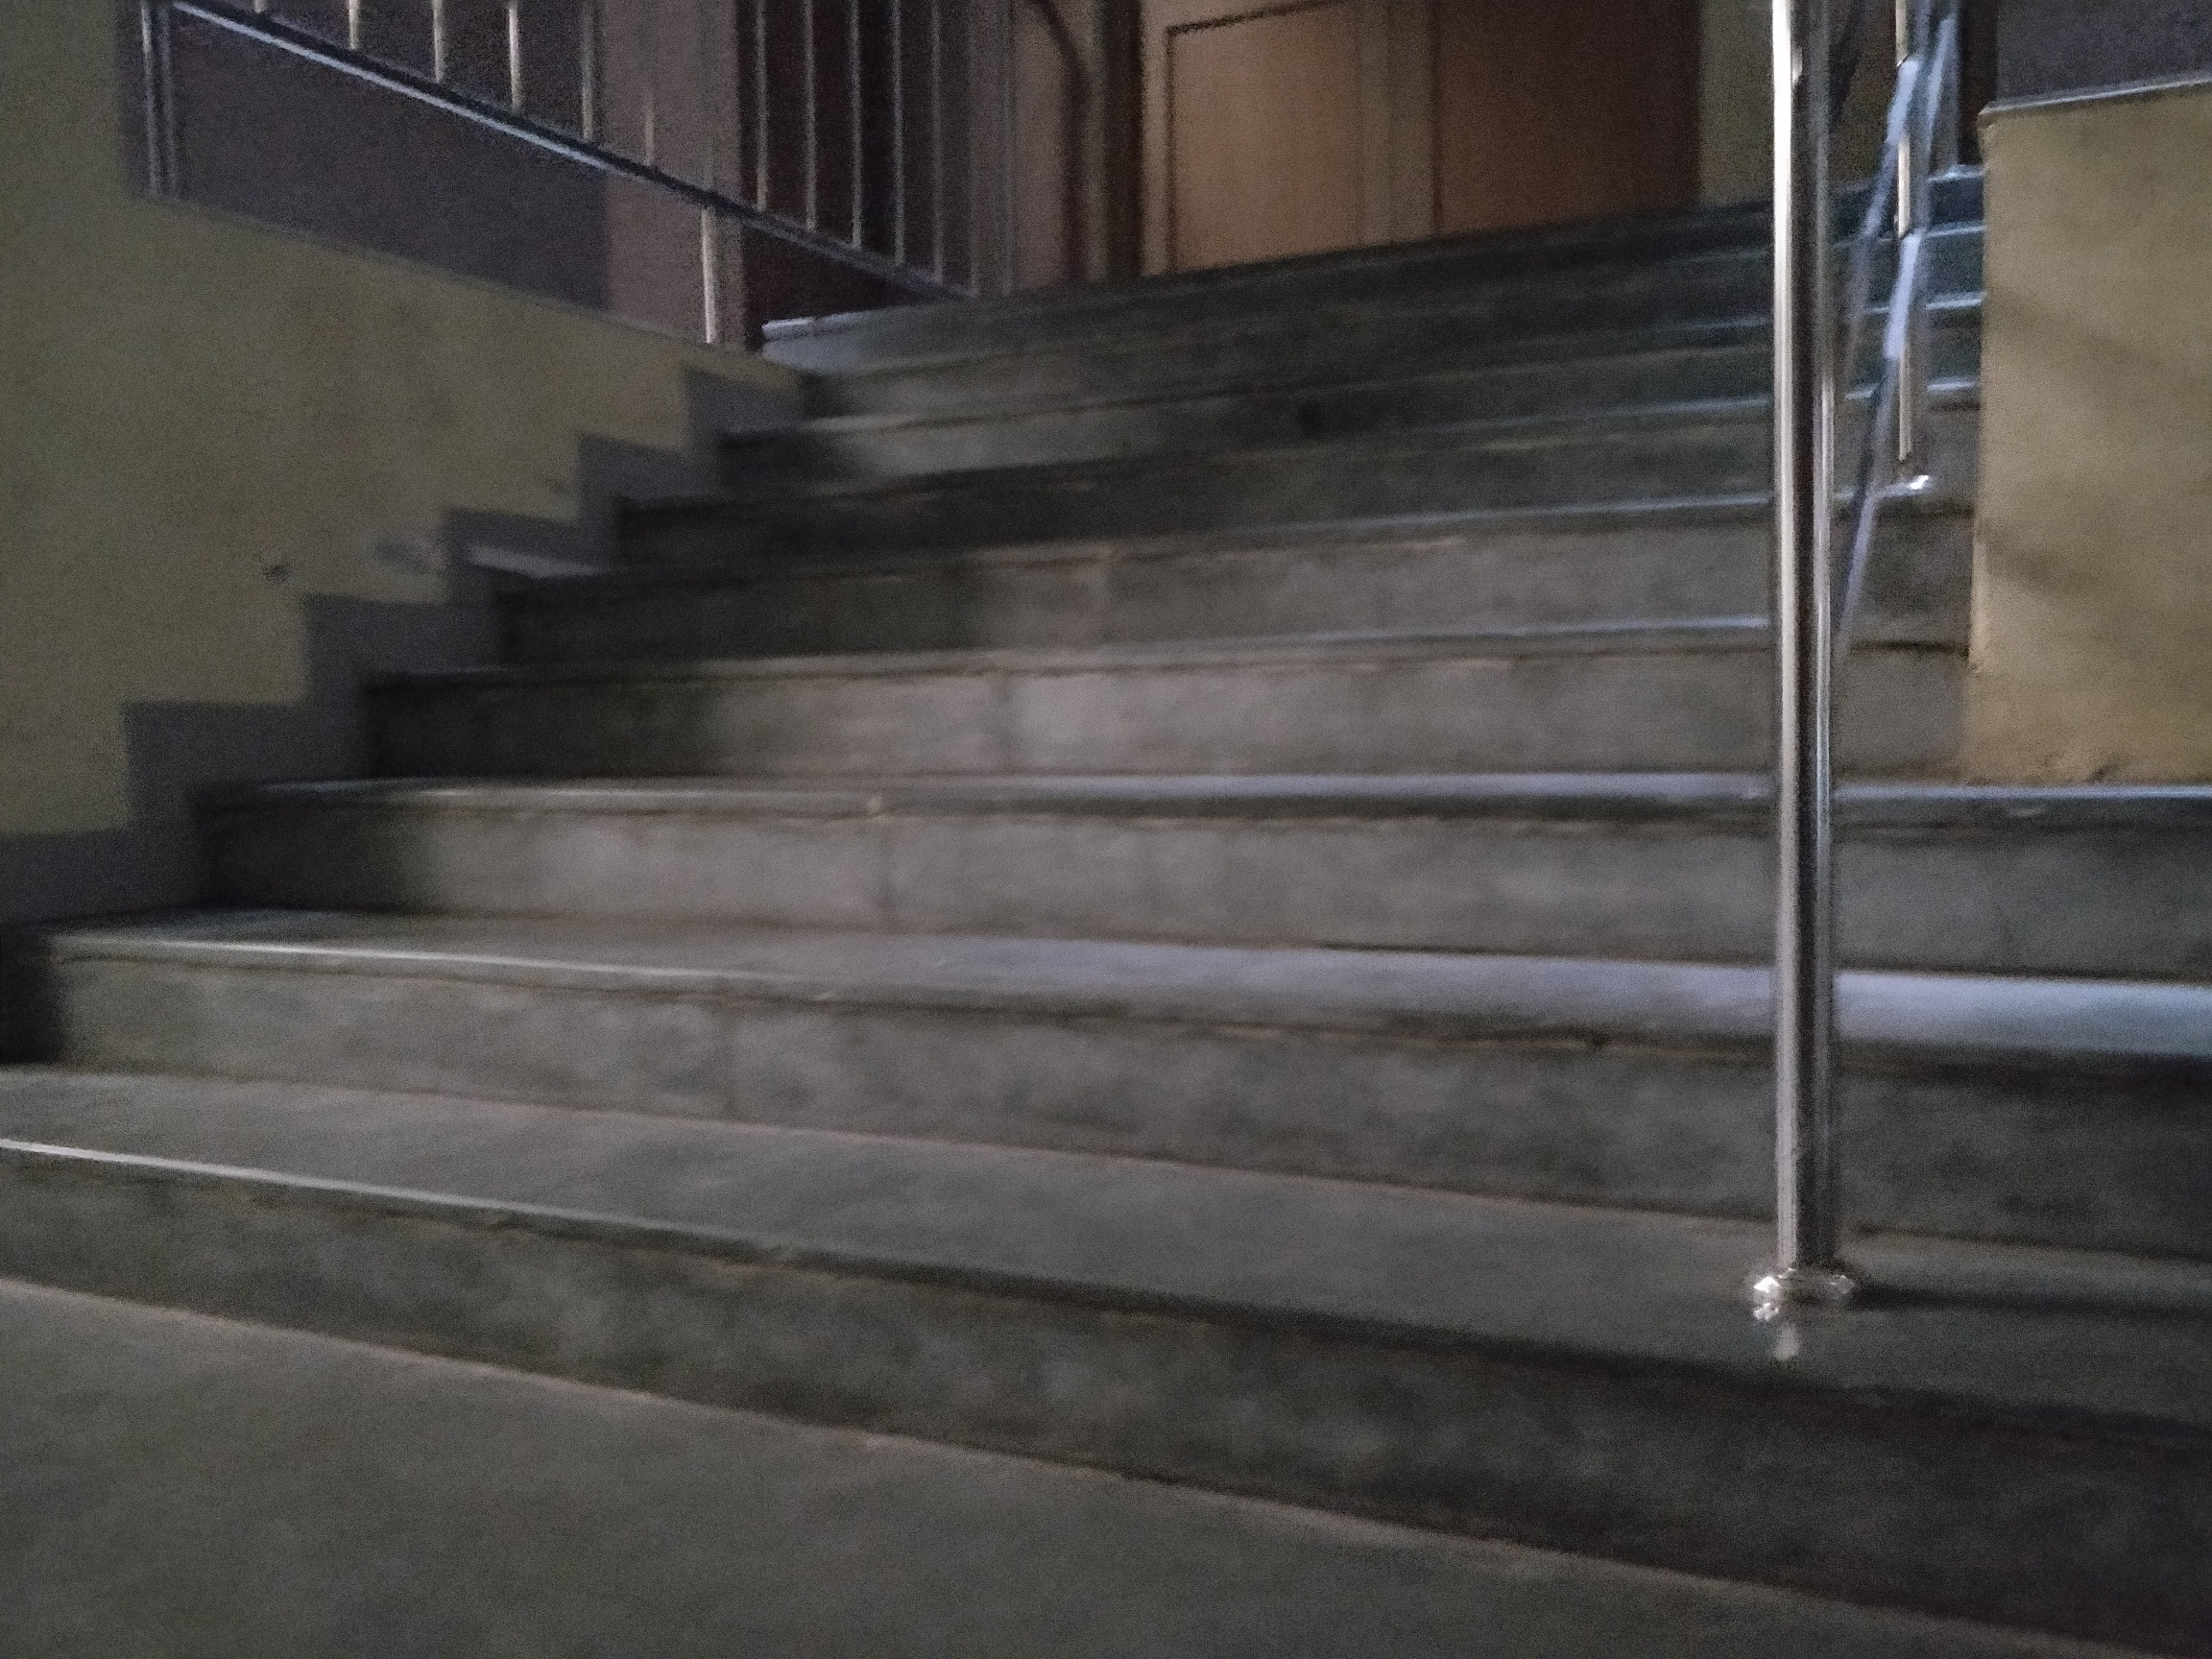stairs_up: (80, 157, 1980, 1387)
